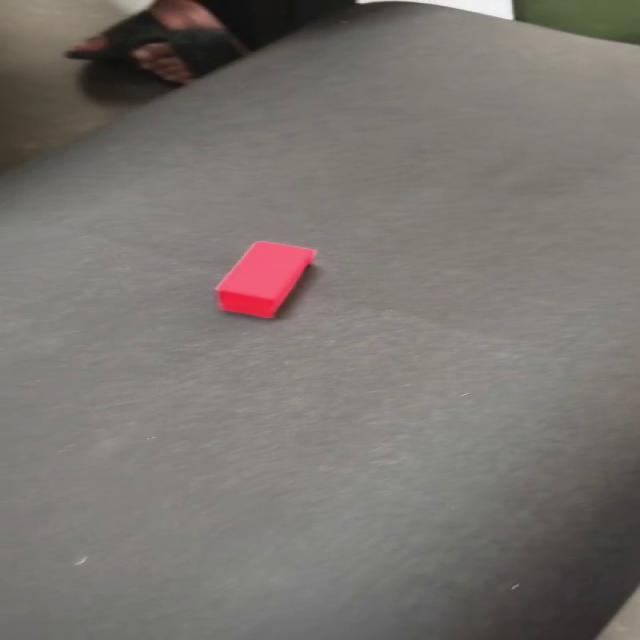red block: (214, 240, 318, 319)
